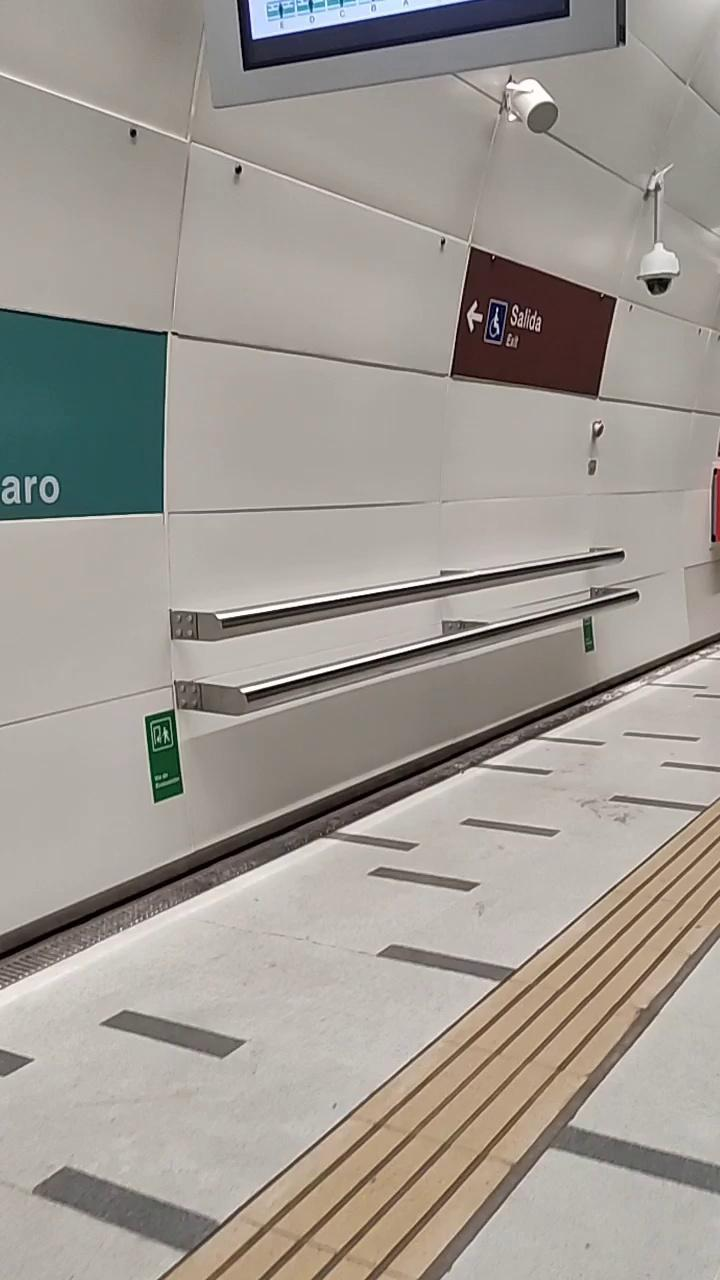handicapped symbol: (488, 307, 502, 337)
left arrow: (466, 301, 483, 333)
